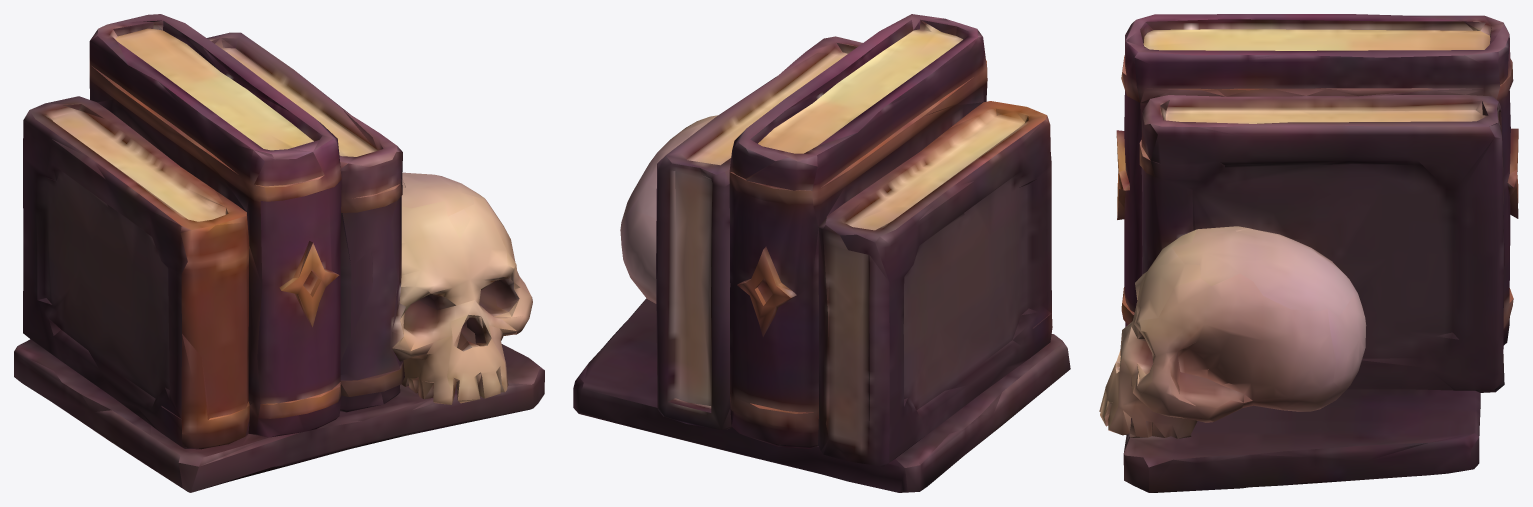
Rendered from deco18.glb.
3 renders of one model, left to right at view 1: azimuth 30°, elevation 25°; view 2: azimuth 150°, elevation 25°; view 3: azimuth 270°, elevation 25°, orthographic. The views are drawn at different scales.
Bounding box in the file's own units: 0.2277 × 0.1806 × 0.2065.
Materials: 1 (1 with a texture image).
